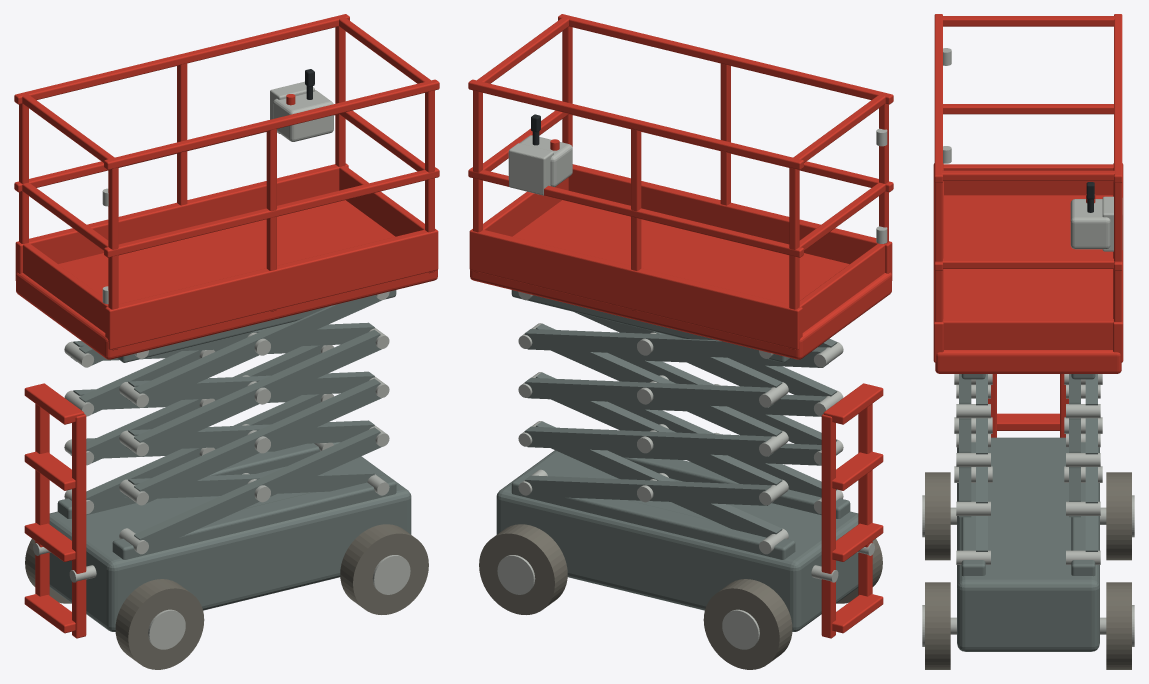
File: full.glb
3 views of the same model, side by side, from view 1: azimuth 30°, elevation 25°; view 2: azimuth 150°, elevation 25°; view 3: azimuth 270°, elevation 25° (orthographic).
Parts seen in each view (by area): view 1: Closed generic vehicle chassis, Raised platform deck, Side toe board -1, Side toe board 1, Scissor A -0.3 0, Scissor A -0.3 1, Scissor A -0.3 2, Wheel -0.71 -1, Wheel 0.71 -1, Lower guide -0.3, Scissor A -0.3 3, Side rail -1 3.09 (+34 smaller); view 2: Closed generic vehicle chassis, Raised platform deck, Side toe board 1, Side toe board -1, Wheel -0.71 1, Wheel 0.71 1, Scissor B 0.3 0, Scissor B 0.3 1, Lower guide 0.3, Scissor B 0.3 2, Scissor B 0.3 3, Side rail 1 3.09 (+37 smaller); view 3: Closed generic vehicle chassis, Raised platform deck, End toe board 1.0, End toe board -1.0, Wheel -0.71 -1, Wheel -0.71 1, Wheel 0.71 -1, Wheel 0.71 1, End rail 1.0 3.09, End rail -1.0 3.09, End rail 1.0 2.56, End rail -1.0 2.56 (+35 smaller).
Part boxes in pixels (x1,y1,x2,y2): Closed generic vehicle chassis: (49, 456, 411, 631); Raised platform deck: (16, 200, 437, 359); Side toe board -1: (105, 229, 438, 349); Side toe board 1: (15, 163, 348, 280); Scissor A -0.3 0: (134, 427, 382, 552); Scissor A -0.3 1: (134, 378, 381, 503); Scissor A -0.3 2: (134, 329, 381, 454); Wheel -0.71 -1: (115, 579, 204, 669); Wheel 0.71 -1: (340, 524, 428, 614); Lower guide -0.3: (112, 475, 396, 559); Scissor A -0.3 3: (134, 295, 381, 405); Side rail -1 3.09: (104, 79, 439, 169); Closed generic vehicle chassis: (496, 450, 858, 631); Raised platform deck: (470, 200, 891, 359); Side toe board 1: (469, 229, 802, 349); Side toe board -1: (568, 164, 892, 280); Wheel -0.71 1: (703, 579, 792, 669); Wheel 0.71 1: (479, 524, 567, 614); Scissor B 0.3 0: (524, 475, 773, 505); Scissor B 0.3 1: (524, 426, 772, 456); Lower guide 0.3: (511, 475, 795, 559); Scissor B 0.3 2: (524, 377, 773, 407); Scissor B 0.3 3: (524, 329, 768, 359); Side rail 1 3.09: (468, 79, 803, 169); Closed generic vehicle chassis: (957, 437, 1099, 651); Raised platform deck: (935, 195, 1121, 373); End toe board 1.0: (943, 319, 1113, 349); End toe board -1.0: (943, 164, 1113, 195); Wheel -0.71 -1: (925, 472, 950, 560); Wheel -0.71 1: (1106, 472, 1131, 560); Wheel 0.71 -1: (925, 582, 950, 669); Wheel 0.71 1: (1106, 582, 1131, 669); End rail 1.0 3.09: (942, 170, 1114, 181); End rail -1.0 3.09: (942, 16, 1114, 26); End rail 1.0 2.56: (942, 258, 1114, 268); End rail -1.0 2.56: (943, 104, 1113, 114).
Bounding box in the file's own units: 2.2 × 3.11 × 1.16.
